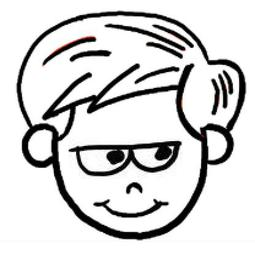ear: (7, 122, 56, 168), (197, 124, 239, 169)
eye: (77, 135, 131, 178), (131, 138, 184, 175)
mouth: (95, 195, 170, 217)
nose: (115, 177, 150, 203)
